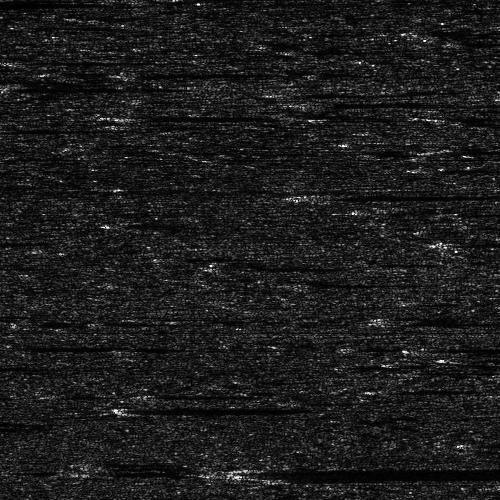object: (189, 463, 272, 480), (412, 437, 500, 448), (260, 190, 343, 199), (80, 403, 153, 412), (75, 113, 158, 120), (275, 112, 316, 121), (378, 342, 419, 351), (405, 145, 446, 154), (275, 100, 348, 105), (0, 58, 35, 63), (242, 91, 295, 94), (80, 72, 121, 75), (270, 282, 311, 285), (405, 114, 446, 117), (377, 314, 388, 325), (0, 83, 13, 92), (0, 127, 23, 132)
shadow: (230, 463, 500, 480), (302, 190, 498, 199), (117, 403, 287, 412), (383, 314, 500, 325), (0, 83, 139, 92), (117, 113, 269, 120), (9, 58, 160, 63), (426, 145, 500, 154), (0, 127, 131, 132), (312, 100, 421, 105), (296, 112, 350, 121), (398, 342, 446, 351), (470, 437, 500, 448), (269, 91, 377, 94), (291, 282, 384, 285), (426, 114, 500, 117), (0, 0, 59, 3), (101, 72, 152, 75), (134, 391, 177, 394)
